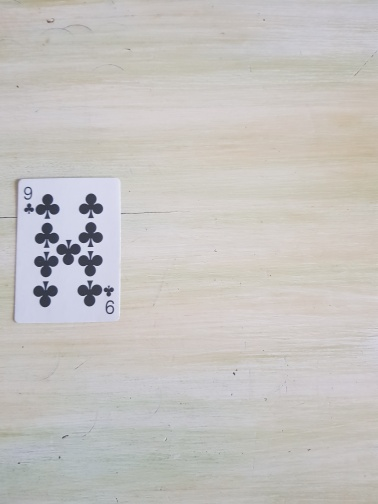nine: (12, 177, 123, 326)
